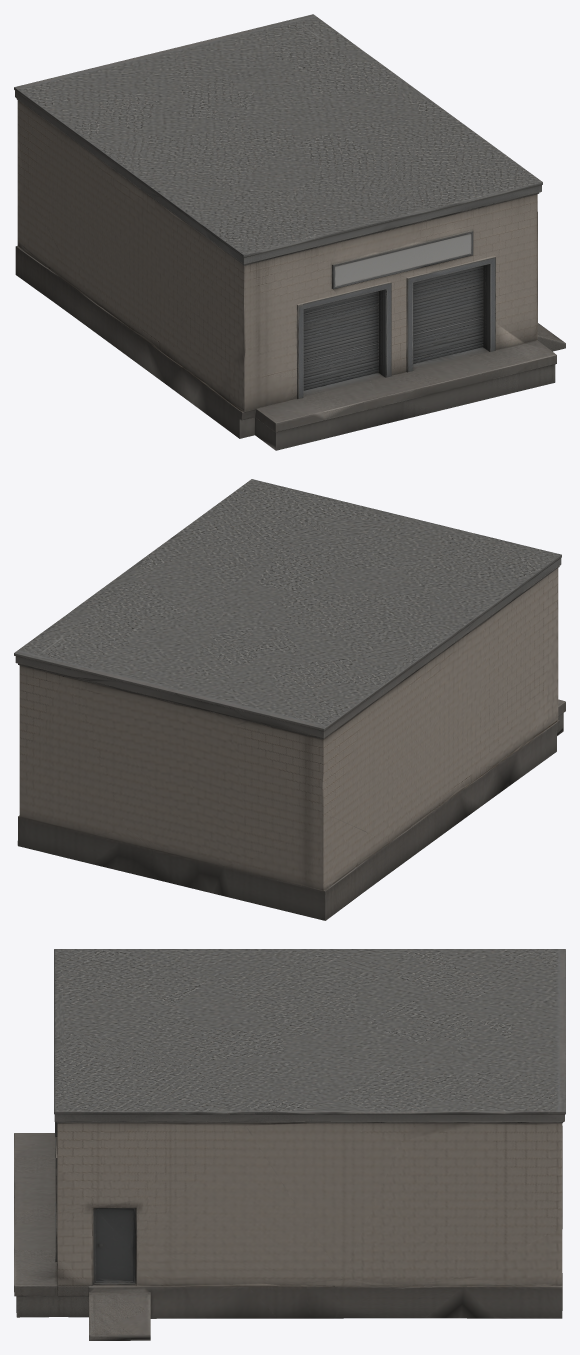
Rendered from job-loading-lot.glb.
3 views of the same model, one above another, from view 1: azimuth 30°, elevation 25°; view 2: azimuth 150°, elevation 25°; view 3: azimuth 270°, elevation 25° (orthographic). The views are drawn at different scales.
Bounding box in the file's own units: 13.2 × 7 × 16.75.
Materials: 1 (1 with a texture image).
